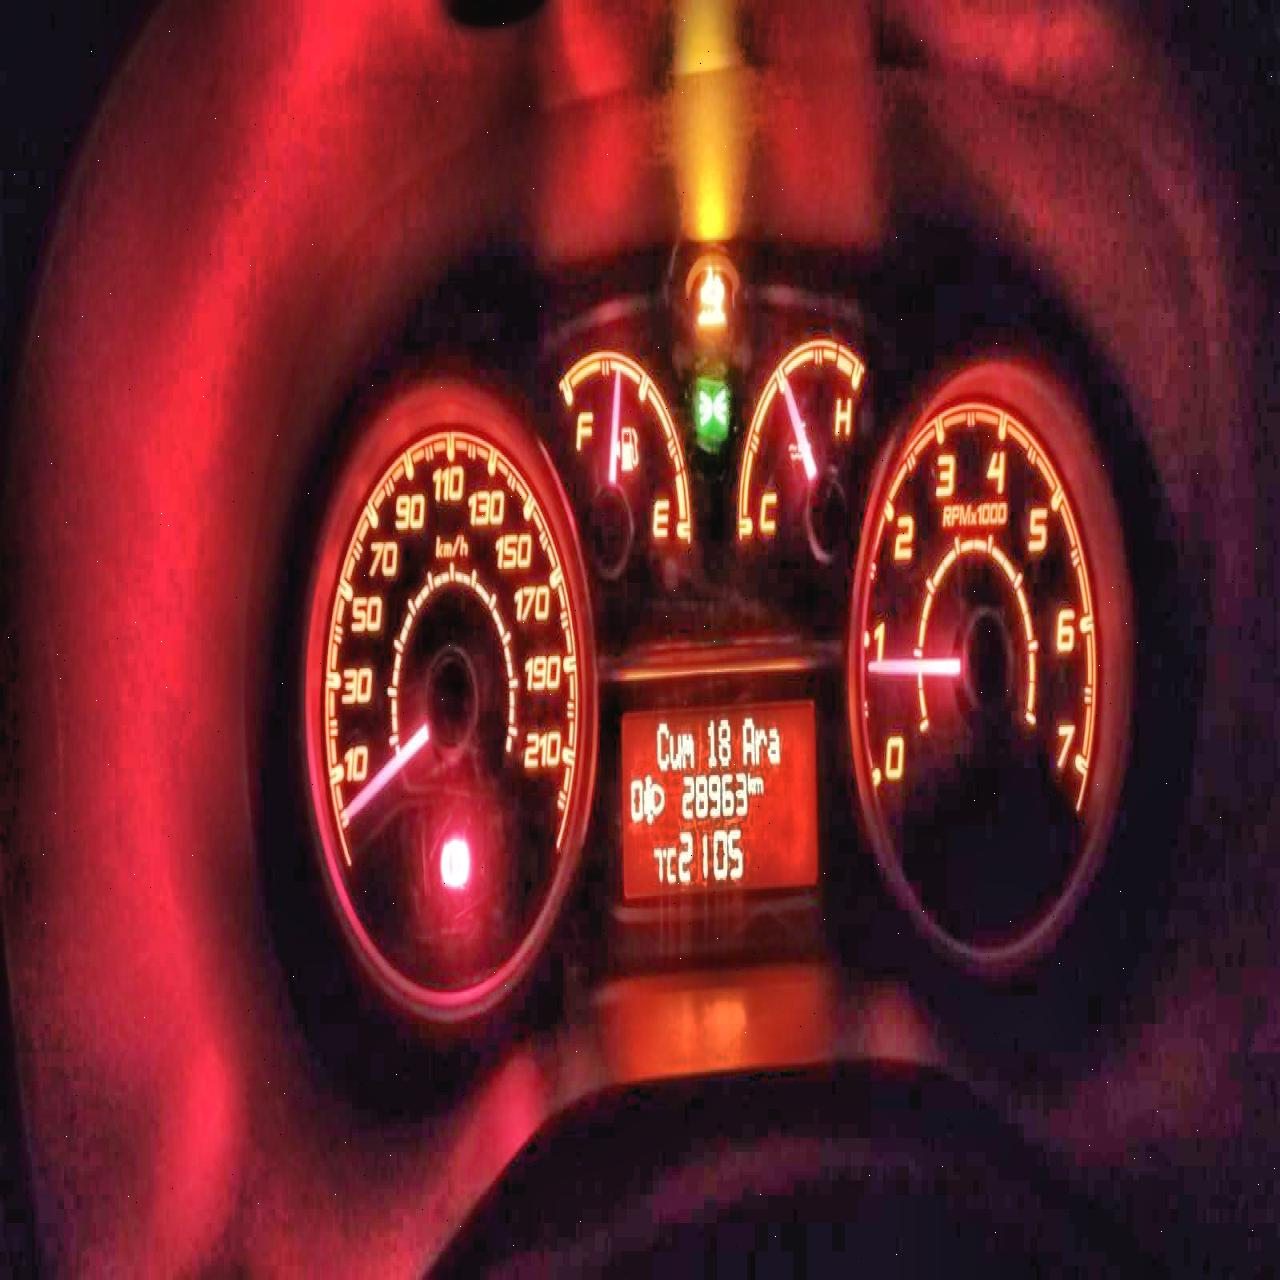0: (712, 826, 728, 880), (628, 777, 644, 823)
1: (704, 715, 717, 768), (700, 830, 709, 880)
2: (678, 829, 692, 881), (680, 771, 694, 819)
3: (734, 768, 747, 816)
5: (728, 826, 743, 880)
6: (721, 770, 734, 816)
7: (651, 844, 662, 881)
8: (716, 716, 731, 768), (694, 774, 708, 818)
9: (708, 771, 721, 816)
X: (654, 719, 669, 771), (740, 713, 754, 767), (767, 726, 781, 764), (668, 730, 681, 769), (681, 730, 694, 768), (755, 723, 767, 764), (666, 846, 676, 881), (754, 774, 763, 792), (747, 769, 753, 795), (662, 846, 666, 859)
odometer: (620, 697, 818, 903)
